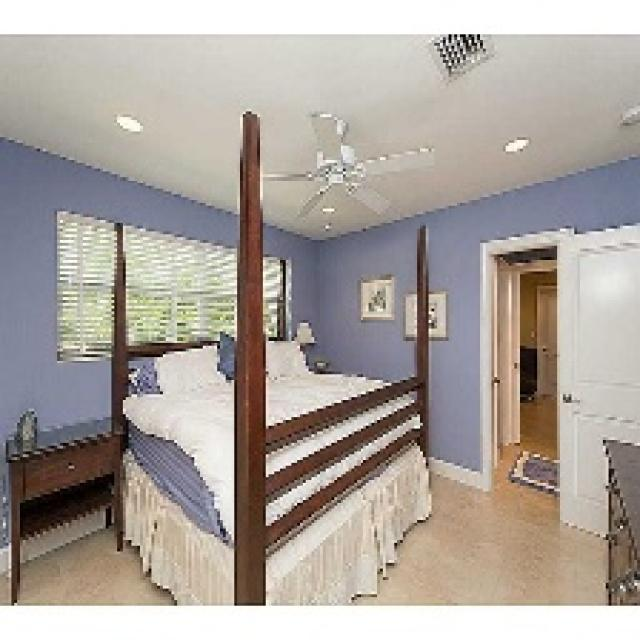Bed: (111, 108, 432, 603)
